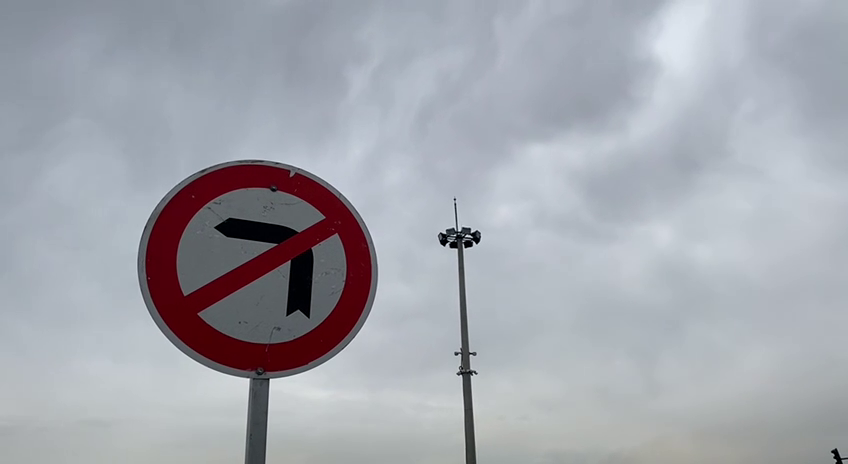noTurnLeft: (133, 153, 384, 387)
